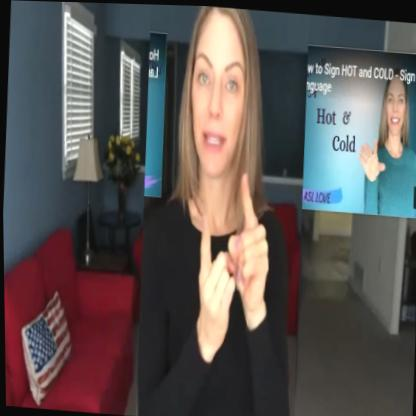NiceToMeetYou: (129, 3, 314, 416)
